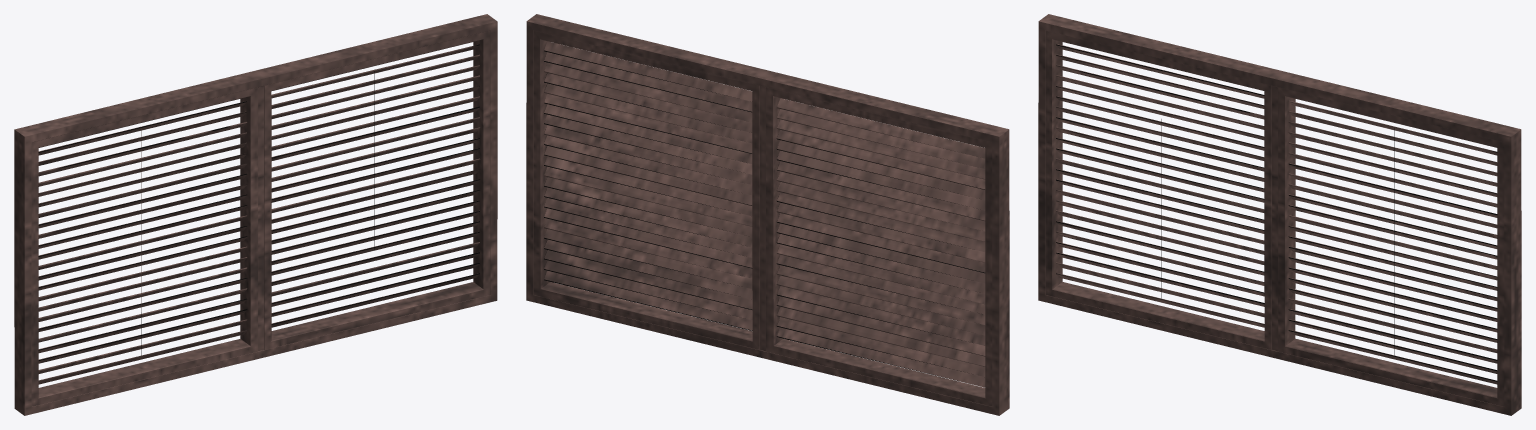
Rendered from WindowFactory73448.spawn_asset7.glb.
3 renders of one model, left to right at view 1: azimuth 30°, elevation 25°; view 2: azimuth 150°, elevation 25°; view 3: azimuth 330°, elevation 25°, orthographic.
Visible parts, largest first — view 1: WindowFactory(73448).spawn_asset(7).001; view 2: WindowFactory(73448).spawn_asset(7).001; view 3: WindowFactory(73448).spawn_asset(7).001.
Boxes of the visible parts, box(x1,y1,x2,y2) form: WindowFactory(73448).spawn_asset(7).001: box(14, 14, 497, 415); WindowFactory(73448).spawn_asset(7).001: box(526, 14, 1009, 415); WindowFactory(73448).spawn_asset(7).001: box(1038, 14, 1521, 415).
Bounding box in the file's own units: 2.5 × 1.41 × 0.0943.
Materials: 1 (1 with a texture image).
